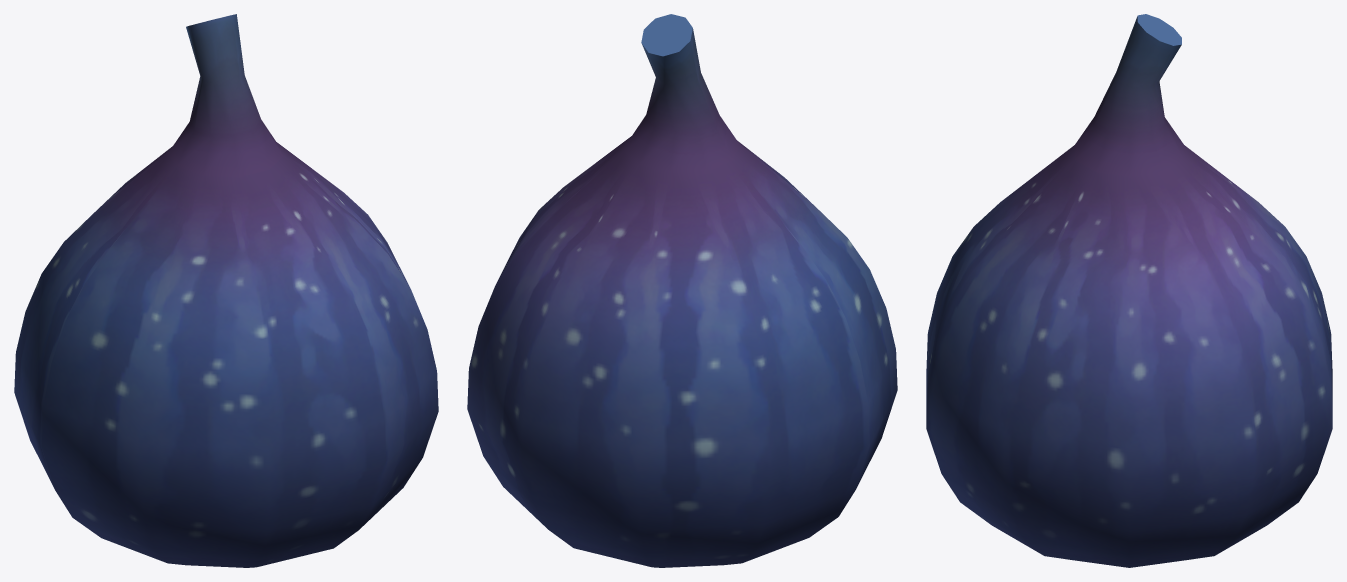
Rendered from Fig_Blue.fbx.
3 renders of one model, left to right at view 1: azimuth 30°, elevation 25°; view 2: azimuth 150°, elevation 25°; view 3: azimuth 270°, elevation 25°, orthographic.
Parts seen in each view (by area): view 1: Fig_Blue; view 2: Fig_Blue; view 3: Fig_Blue.
Boxes of the visible parts, left/top/right/bottom form: Fig_Blue: left=14, top=14, right=438, bottom=567; Fig_Blue: left=467, top=14, right=897, bottom=567; Fig_Blue: left=926, top=14, right=1332, bottom=567.
Bounding box in the file's own units: 23.79 × 31.93 × 22.63.
